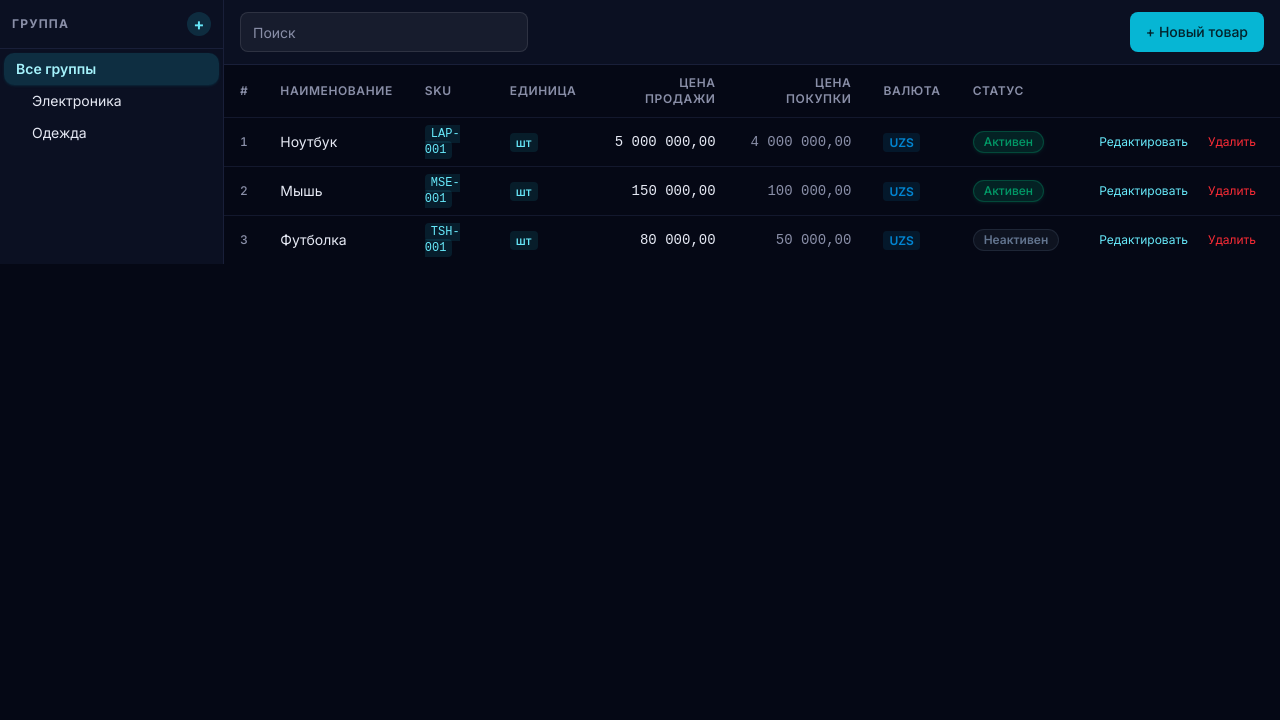
it: ProductsPage › открывает диалог создания продукта
The image size is (1280, 720).
Expected: the text "Ноутбук" is shown, [264,118,409,166]
Click the button "+ Новый товар": x=1197, y=32 [1130,12,1264,52]
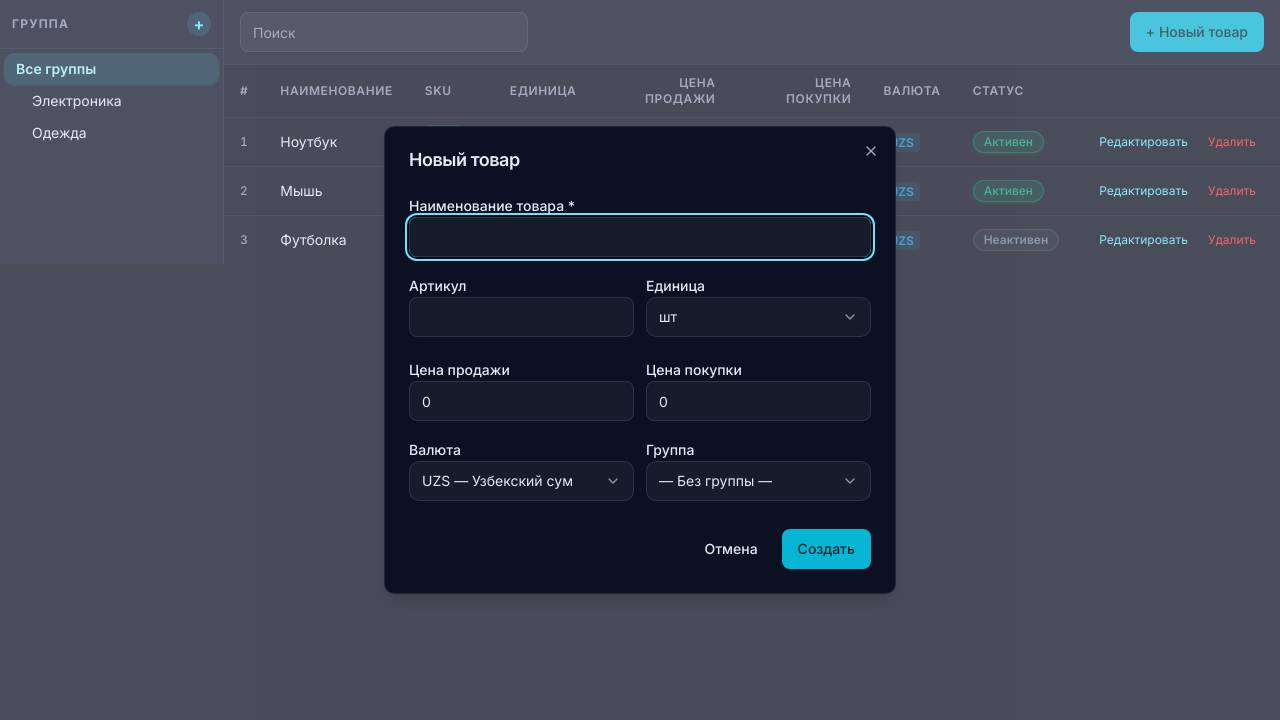
Expected: the dialog is shown, [384,126,896,594]
